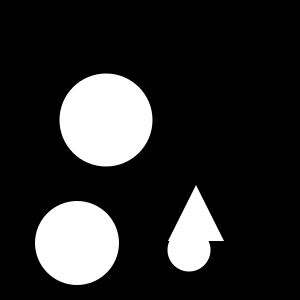rectangle: (60, 74, 152, 167), (35, 201, 119, 285), (168, 228, 210, 272)
triangle: (168, 185, 224, 241)
